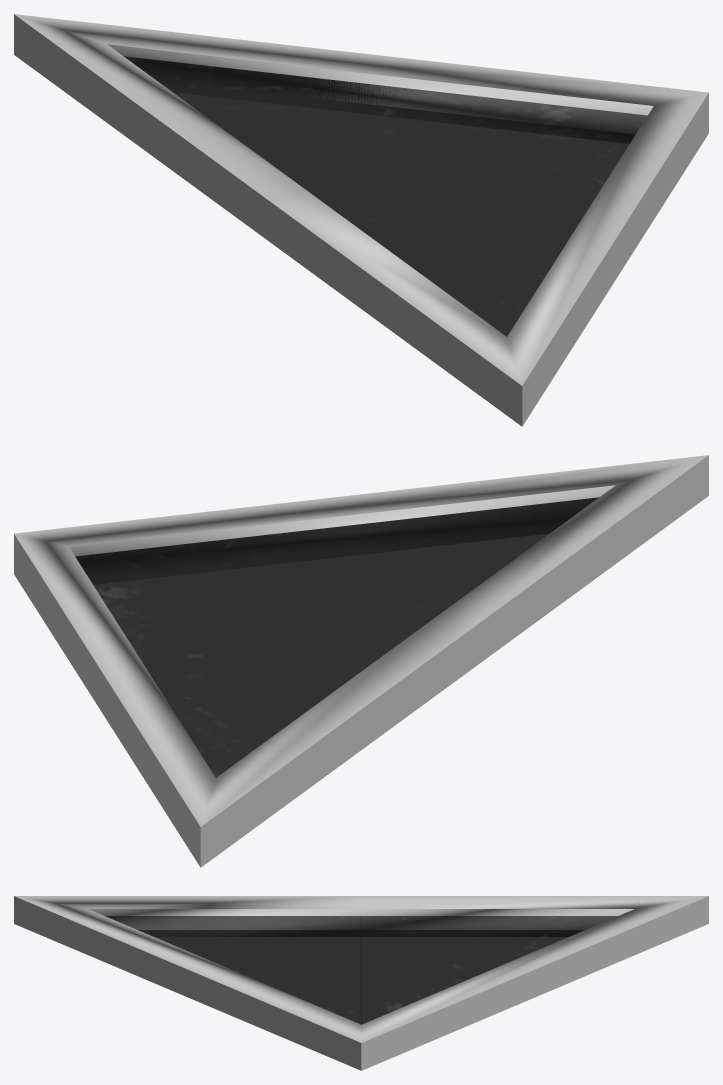
File: glass_1x1_triangle.fbx
The picture shows the model from 3 angles, top to bottom: view 1: azimuth 30°, elevation 25°; view 2: azimuth 150°, elevation 25°; view 3: azimuth 270°, elevation 25°; orthographic projection. The views are drawn at different scales.
Parts seen in each view (by area): view 1: glass_1x1_triangle; view 2: glass_1x1_triangle; view 3: glass_1x1_triangle.
Part boxes in pixels (x1,y1,x2,y2): glass_1x1_triangle: (14, 14, 708, 426); glass_1x1_triangle: (14, 455, 708, 867); glass_1x1_triangle: (14, 896, 708, 1070).
Bounding box in the file's own units: 28.32 × 2.5 × 56.55.
